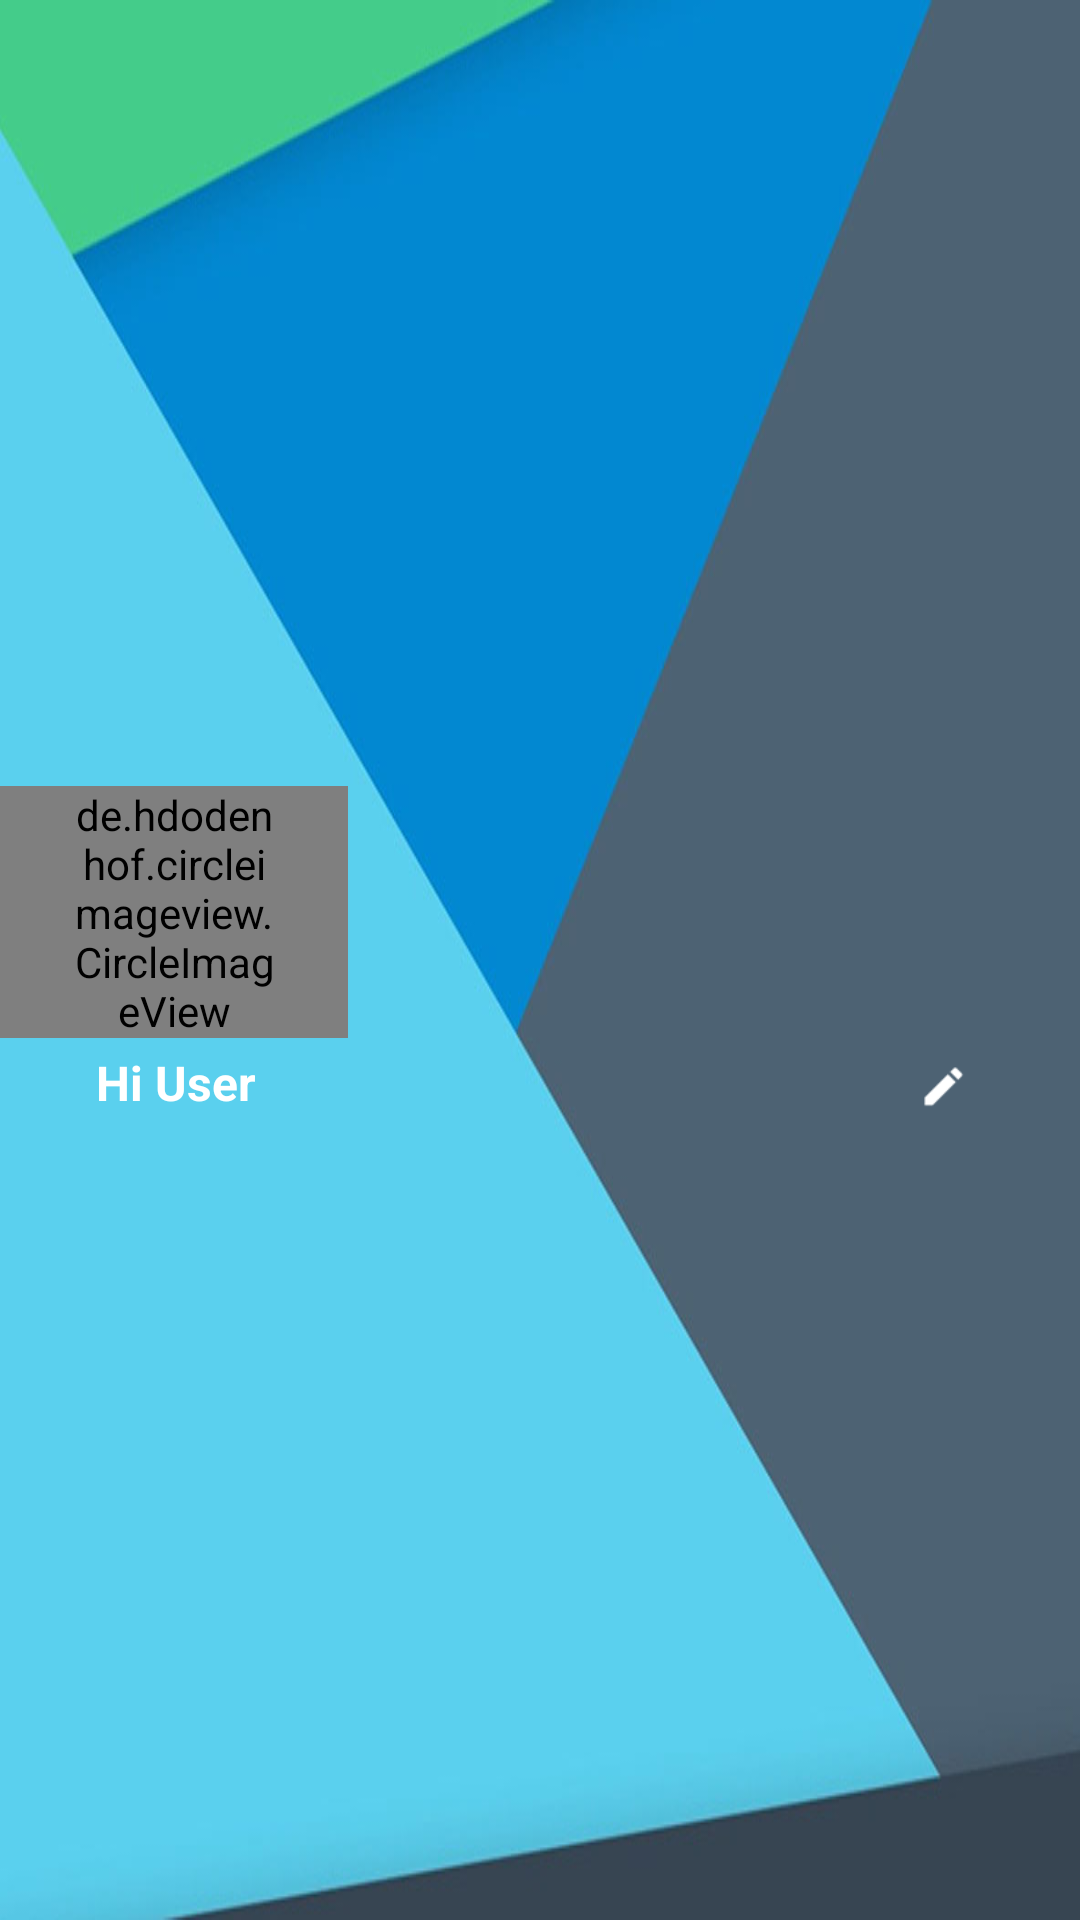

Named icons in this screenshot (1080×1920) and their centers, (x=x, y=y):
edit pencil: (x=943, y=1086)
